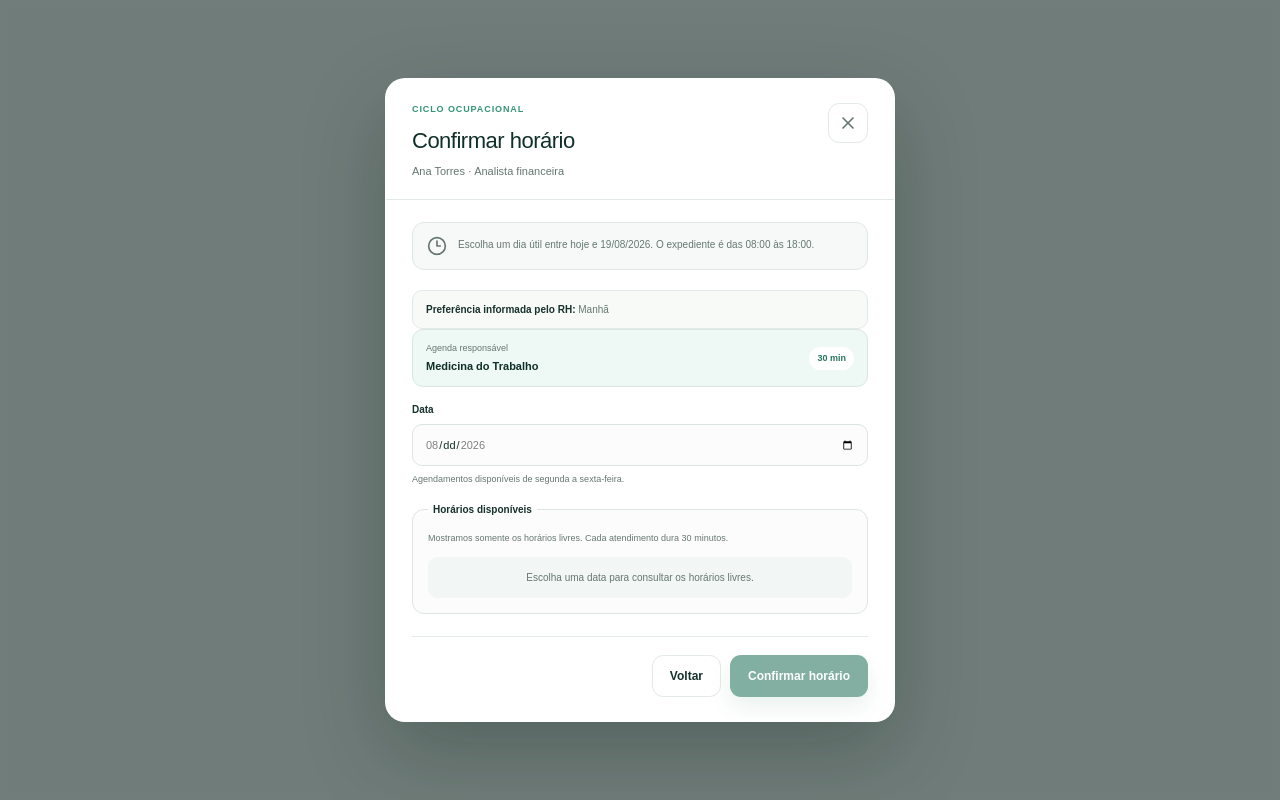
Test: Modal de agendamento da clínica › recusa sábado e domingo sem oferecer horários
Type "2026-08-09" into the date field labelled "Data".
click(640, 446); type("2026-08-09")  # box [412, 424, 868, 466]
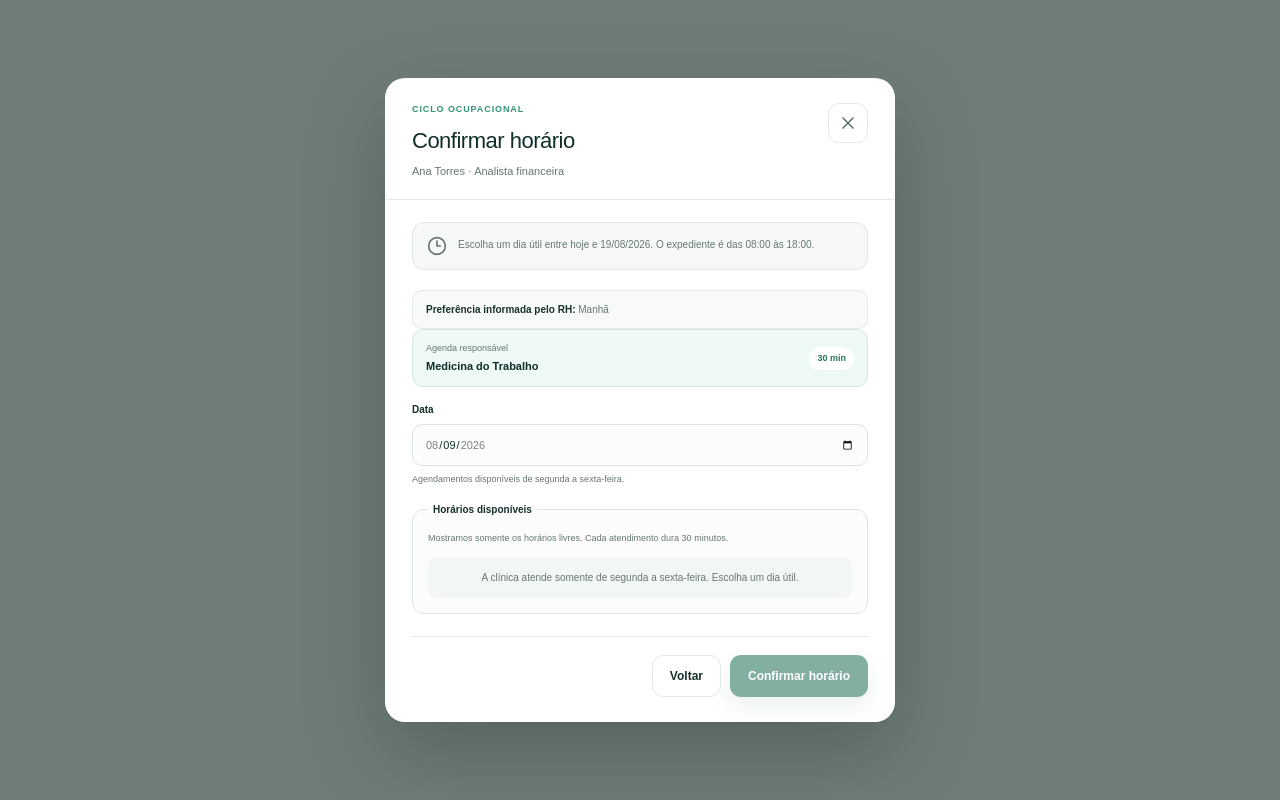
Result: the text "A clínica atende somente de segunda a sexta-feira. Escolha um dia útil." is shown at [428, 556, 852, 598]
